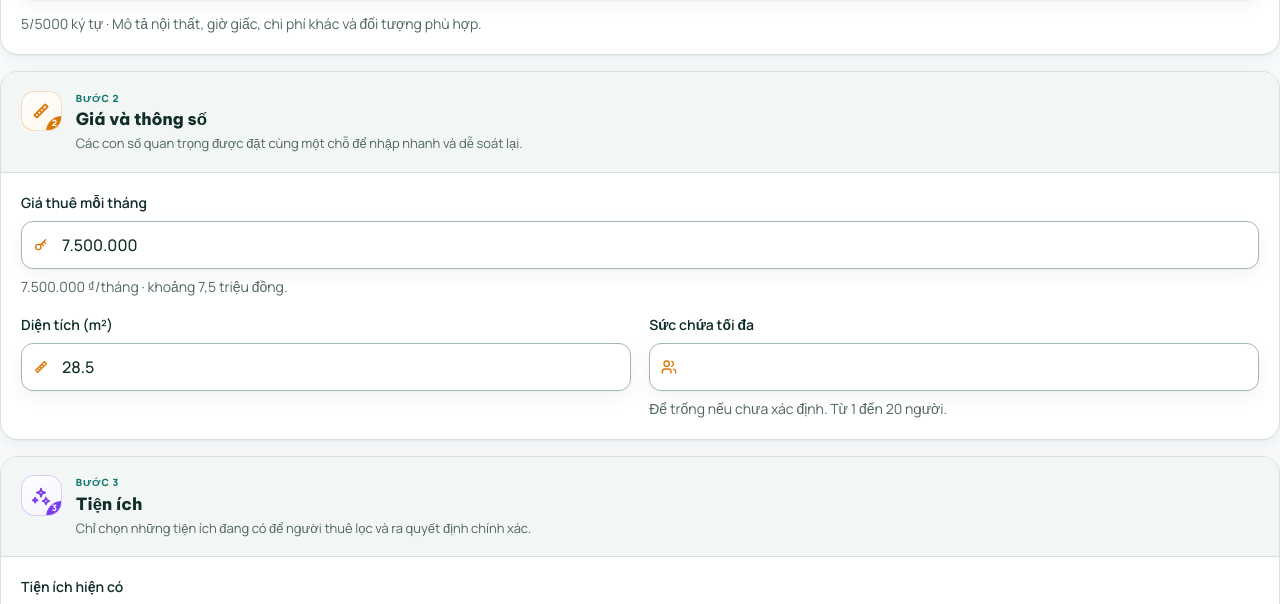
Test: OwnerListingEditor › validates rent 0 without turning zero into null
The image size is (1280, 604).
(page scrolled)
Replace the text in the field labelled "Giá thuê mỗi tháng" with "0" at (640, 245), box 21,221 -> 1259,269
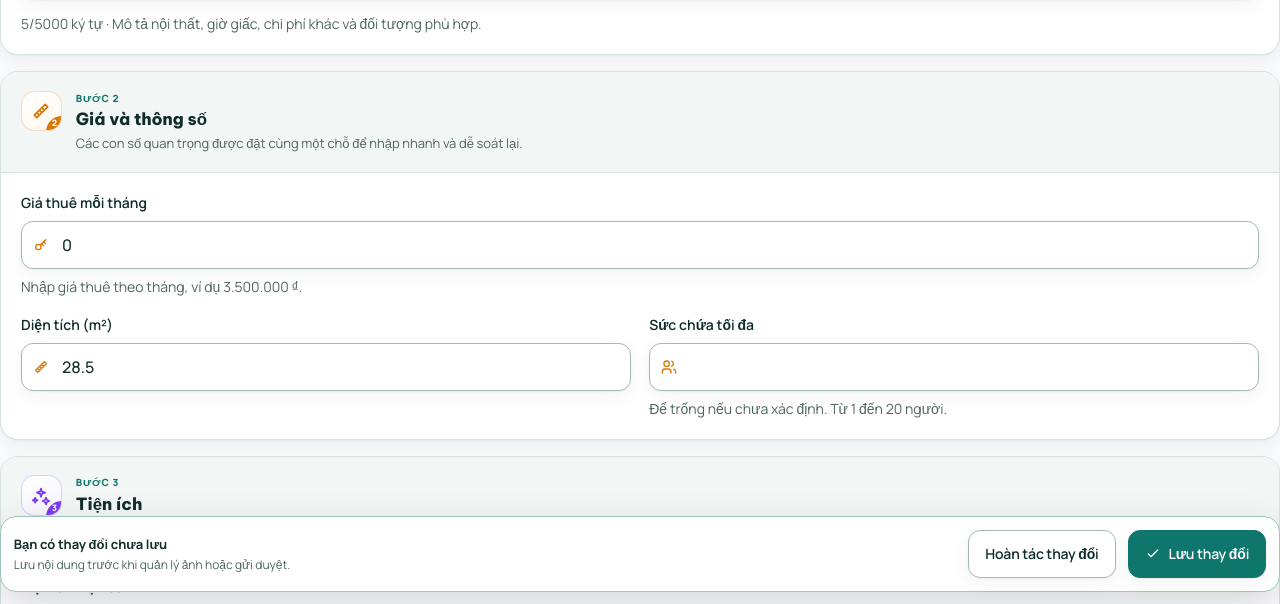
Click the button "Lưu thay đổi".
click(1197, 554)  # box 1128,530 -> 1266,578
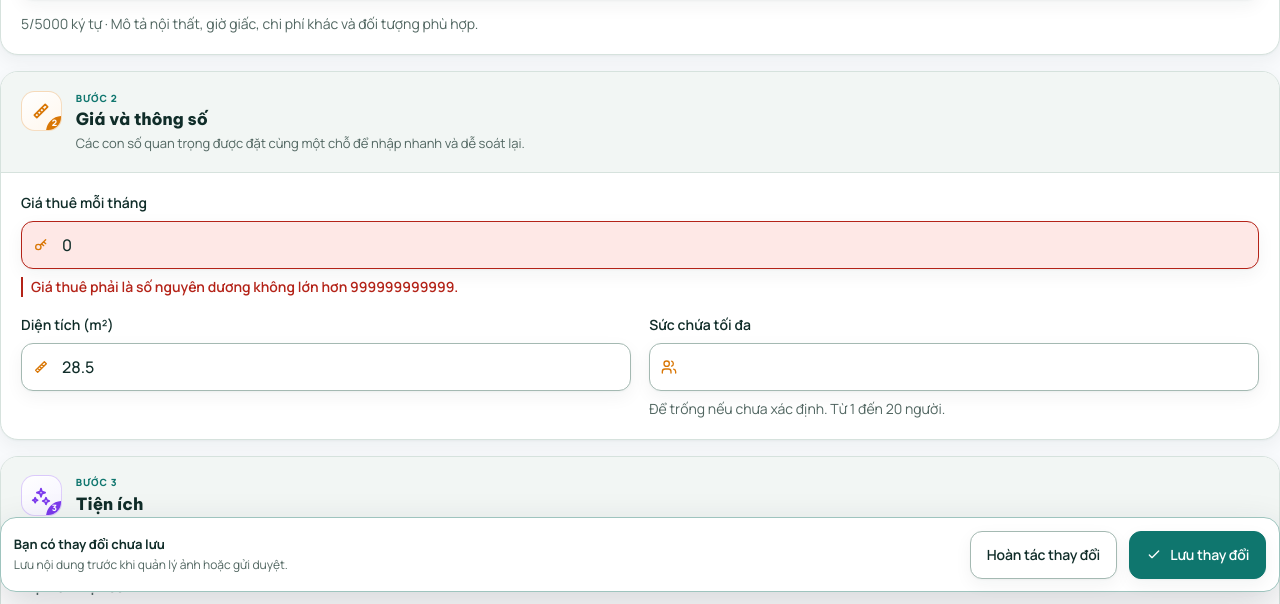
Check: the text "Giá thuê phải là số nguyên dương không lớn hơn 999999999999." is shown, box 21,277 -> 1259,297
